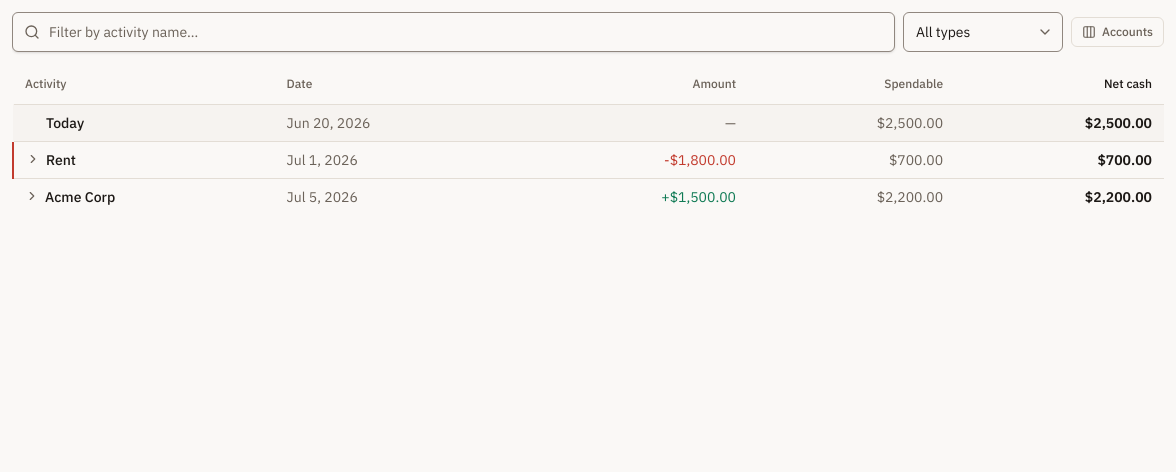
ProjectedActivityTable › expands a row to its typed explanation (vkge)
The image size is (1176, 472).
Click the button "Rent": [51, 160] box [26, 150, 76, 170]
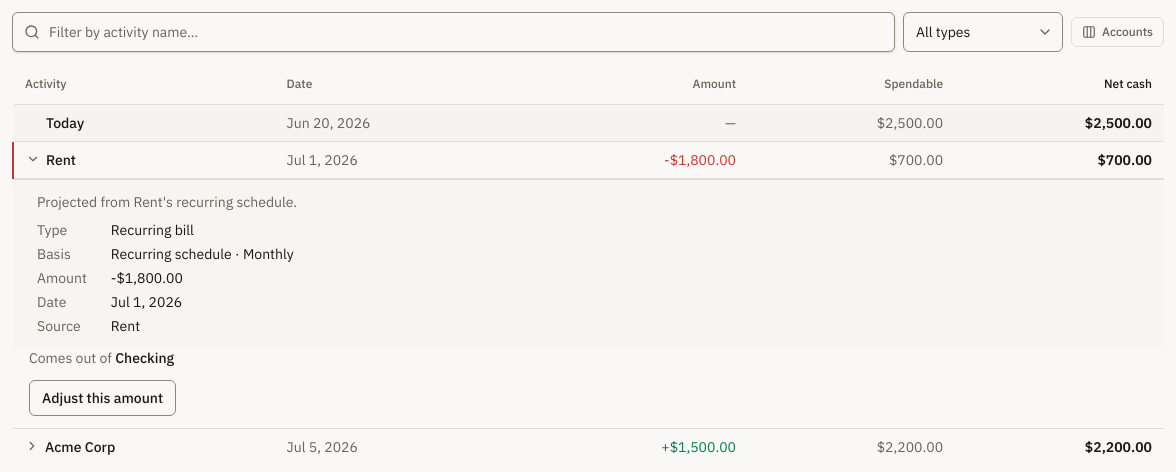
Result: the button "Rent" is expanded at [26, 150, 76, 170]
Result: the text "Recurring schedule · Monthly" is shown at [111, 244, 294, 262]
